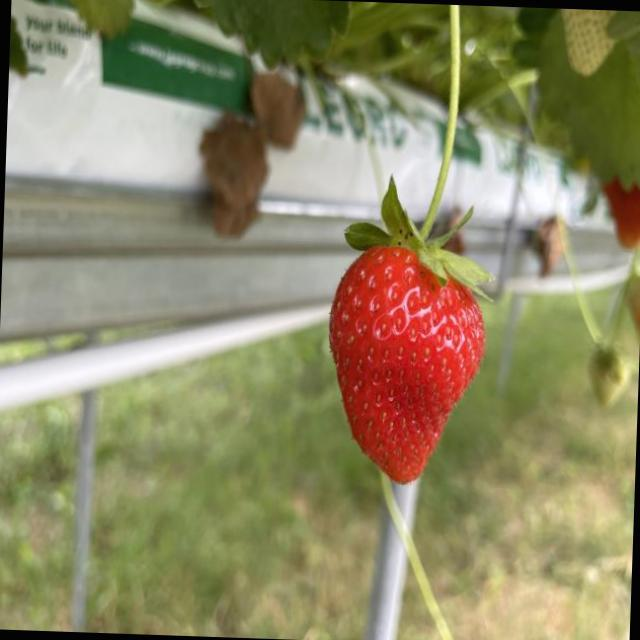stem: (346, 4, 488, 296)
strawberryR: (328, 247, 483, 479)
